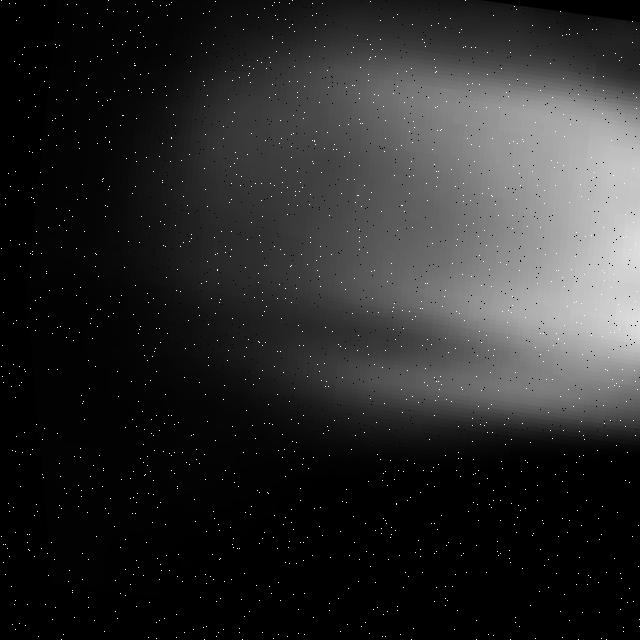person: (69, 1, 640, 511)
